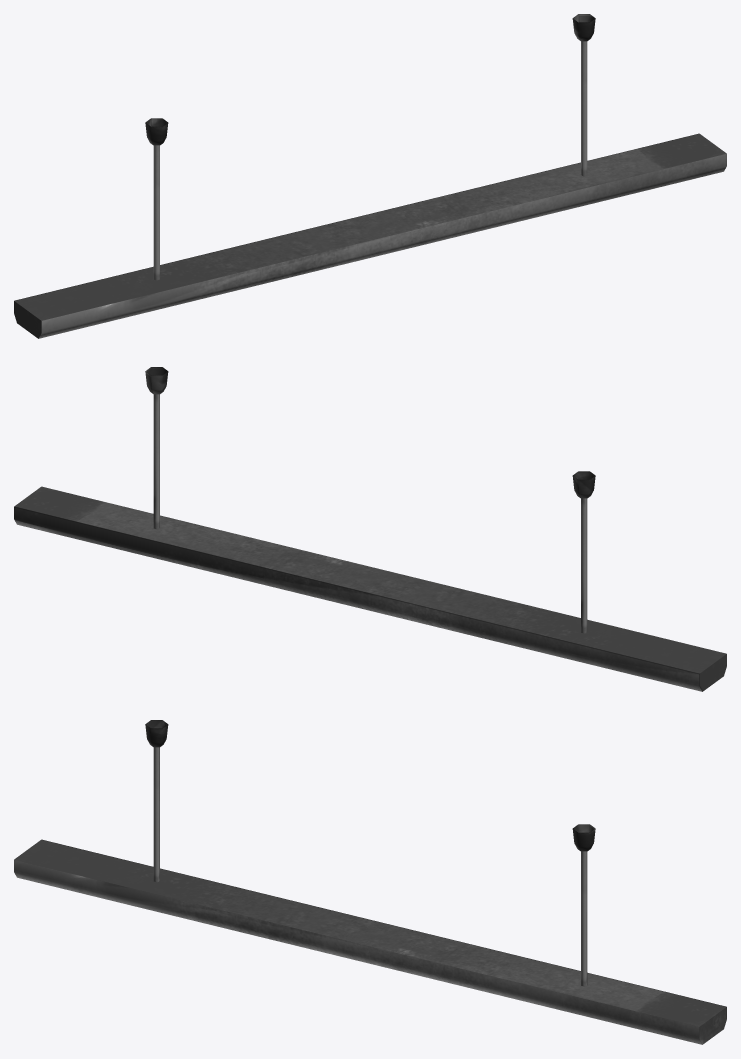
File: LightHanging_Asset.fbx
The picture shows the model from 3 angles, top to bottom: view 1: azimuth 30°, elevation 25°; view 2: azimuth 150°, elevation 25°; view 3: azimuth 330°, elevation 25°; orthographic projection.
Parts seen in each view (by area): view 1: LightHanging, WireL, WireR, WireCapL, WireCapR; view 2: LightHanging, WireL, WireR, WireCapL, WireCapR; view 3: LightHanging, WireL, WireR, WireCapR, WireCapL.
Part boxes in pixels (x1=…): LightHanging: x1=14, y1=133, x2=726, y2=338; WireL: x1=581, y1=41, x2=587, y2=176; WireR: x1=153, y1=145, x2=159, y2=280; WireCapL: x1=145, y1=118, x2=168, y2=145; WireCapR: x1=572, y1=14, x2=595, y2=41; LightHanging: x1=14, y1=486, x2=726, y2=691; WireL: x1=153, y1=394, x2=159, y2=529; WireR: x1=581, y1=498, x2=587, y2=633; WireCapL: x1=572, y1=471, x2=595, y2=498; WireCapR: x1=145, y1=367, x2=168, y2=394; LightHanging: x1=14, y1=839, x2=726, y2=1044; WireL: x1=581, y1=851, x2=587, y2=986; WireR: x1=153, y1=747, x2=159, y2=882; WireCapR: x1=572, y1=824, x2=595, y2=851; WireCapL: x1=145, y1=720, x2=168, y2=747.
Bounding box in the file's own units: 237 × 16.49 × 58.56.
1 material, 1 textured.
